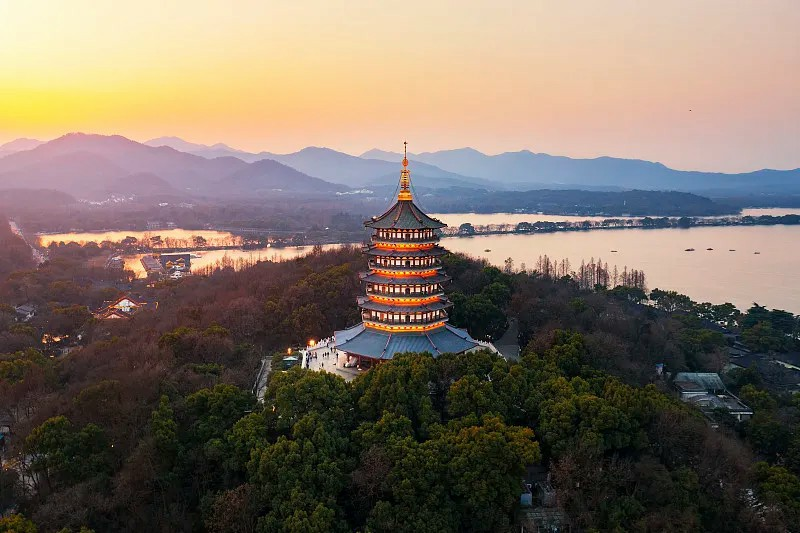Leifeng: (333, 141, 485, 375)
